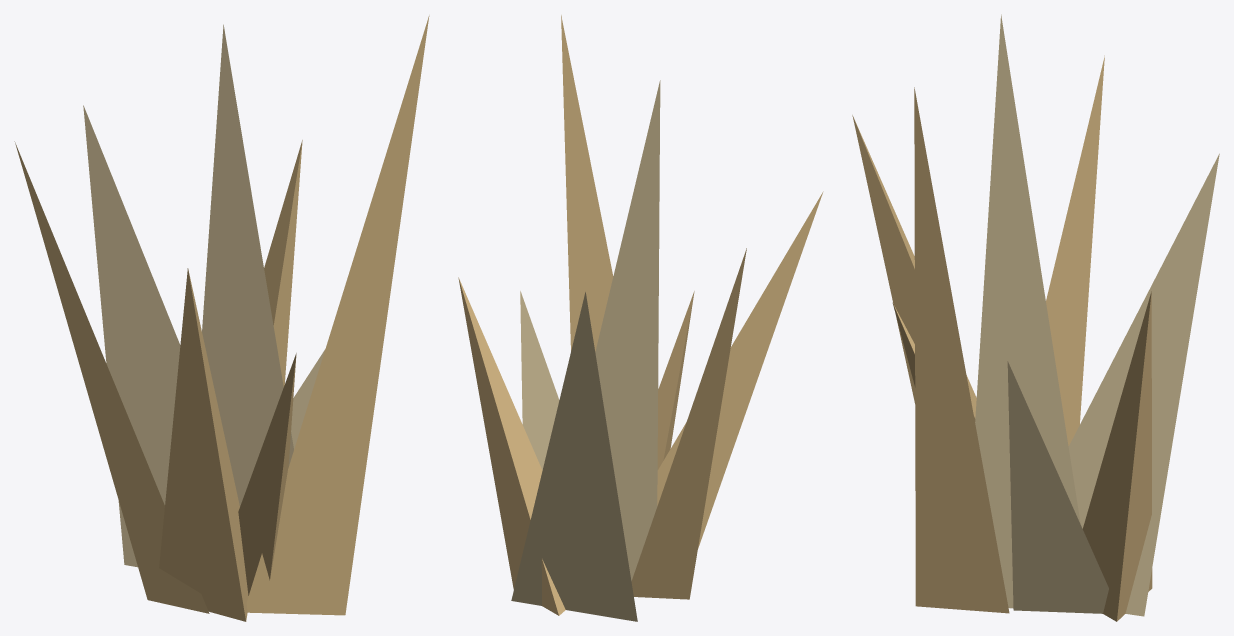
Rendered from DriedGrassB.fbx.
3 views of the same model, side by side, from view 1: azimuth 30°, elevation 25°; view 2: azimuth 150°, elevation 25°; view 3: azimuth 270°, elevation 25° (orthographic). The views are drawn at different scales.
Parts seen in each view (by area): view 1: Cone.008; view 2: Cone.008; view 3: Cone.008.
Boxes of the visible parts, x1,y1,x2,y2 form: Cone.008: [14, 15, 429, 621]; Cone.008: [458, 15, 823, 621]; Cone.008: [852, 14, 1219, 621].
Bounding box in the file's own units: 33.29 × 58.55 × 34.87.
